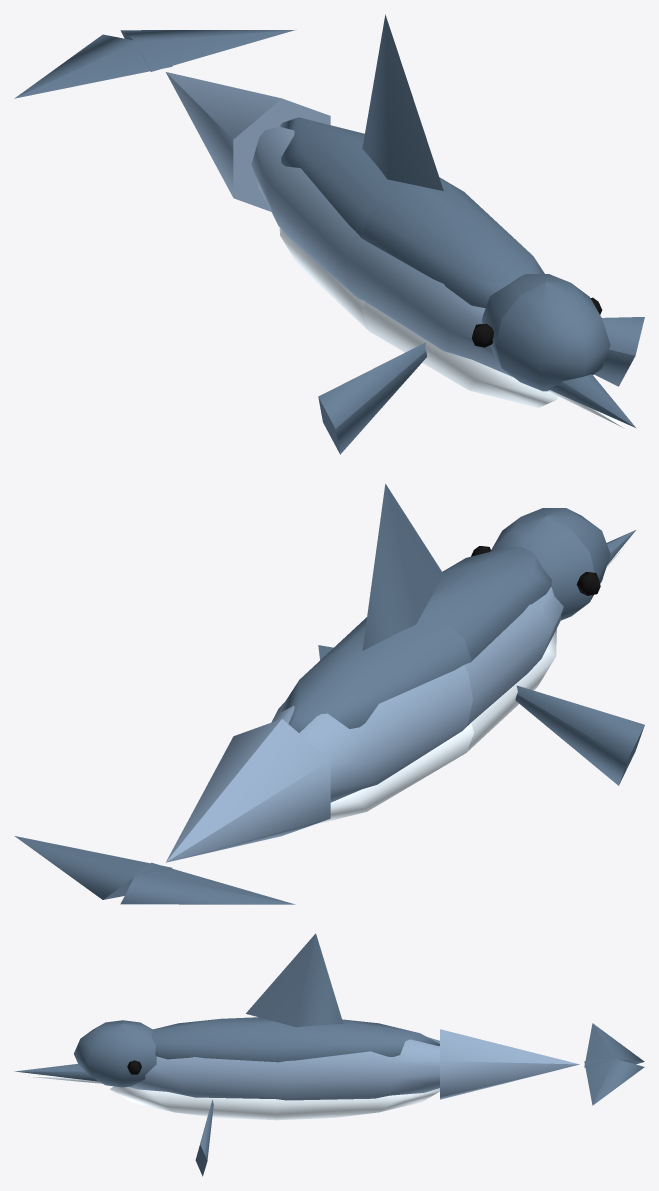
Rendered from spinner-dolphin.glb.
The picture shows the model from 3 angles, top to bottom: view 1: azimuth 30°, elevation 25°; view 2: azimuth 150°, elevation 25°; view 3: azimuth 270°, elevation 25°; orthographic projection. The views are drawn at different scales.
Visible parts, largest first — view 1: spinner-dolphin, tail; view 2: spinner-dolphin, tail; view 3: spinner-dolphin, tail.
Boxes of the visible parts, <box> form: spinner-dolphin: <box>251,14,644,454</box>; tail: <box>14,29,330,211</box>; spinner-dolphin: <box>271,483,644,825</box>; tail: <box>14,719,330,904</box>; spinner-dolphin: <box>14,933,439,1176</box>; tail: <box>440,1023,644,1105</box>.
Bounding box in the file's own units: 1.17 × 1.15 × 3.24.
